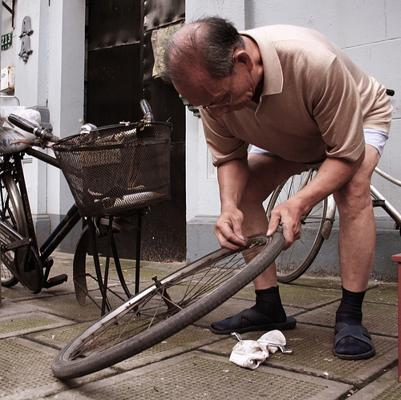person: (162, 15, 396, 362)
